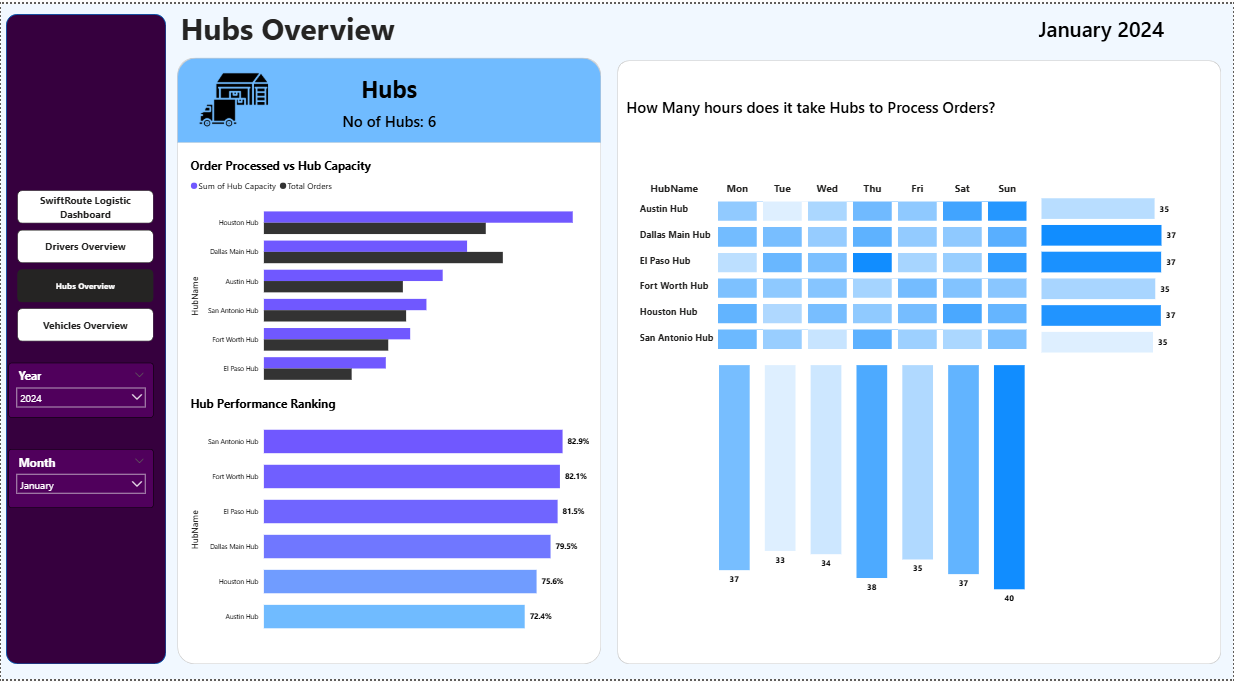

The page's visual inventory and layout, read from the dashboard file:
{"tool":"powerbi","page":{"name":"Hubs Overview","canvas":[1970,1080],"ordinal":2},"visuals":[{"type":"shape","box":[8,16,256,1040],"z":0},{"type":"textbox","box":[282,0,812,90],"z":1000},{"type":"slicer","fields":{"Values":["Date Table.Month"]},"box":[12,712,232,94],"z":2000},{"type":"slicer","fields":{"Values":["Date Table.Year"]},"box":[12,574,232,88],"z":3000},{"type":"shape","box":[282,86,678,970],"z":4000},{"type":"cardVisual","fields":{"Data":["Orders.Year Month Title"]},"box":[1549.1,0,421.7,74.2],"z":5000},{"type":"shape","box":[986,90,966,966],"z":6000},{"type":"shape","box":[282,86,678,136],"z":7000},{"type":"textbox","box":[482,104,278,72],"z":8000},{"type":"cardVisual","fields":{"Data":["Hubs.No of hubs"]},"box":[410,156,422,58],"z":9000},{"type":"clusteredBarChart","title":"Order Processed vs Hub Capacity","fields":{"Category":["Hubs.HubName"],"Y":["Sum(Hubs.Hub Capacity)","Orders.Total Orders"]},"box":[298,246,648,380],"z":10000},{"type":"barChart","title":"Hub Performance Ranking","fields":{"Category":["Hubs.HubName"],"Y":["Orders.On Time Delivery Rate"]},"box":[298,626,648,402],"z":11000},{"type":"pivotTable","fields":{"Rows":["Hubs.HubName"],"Columns":["Date Table.Day"],"Values":["Orders.Avg Delivery Time (Hrs)"]},"box":[1011.6,276.9,647.9,287.7],"z":12000},{"type":"columnChart","fields":{"Category":["Date Table.Day"],"Y":["Orders.Avg Delivery Time (Hrs)"]},"box":[1143.7,564.6,501.3,405.4],"z":13000},{"type":"barChart","fields":{"Category":["Hubs.HubName"],"Y":["Orders.Avg Delivery Time (Hrs)"]},"box":[1659.5,298.6,293.2,266],"z":14000},{"type":"cardVisual","fields":{"Data":["Hubs.Hub Title"]},"box":[960.9,128.5,671.4,72.4],"z":15000},{"type":"pageNavigator","box":[26,298,218,242],"z":16000},{"type":"image","box":[290,92,164,122],"z":17000}]}

Visuals, with their boxes on the page's 1970x1080 design canvas (x1, y1, x2, y2). These are canvas units, not pixel positions in the 1234x682 screenshot, which may show the page scaled, cropped or inside an application window:
shape: [8, 16, 264, 1056]
textbox: [282, 0, 1094, 90]
slicer - Date Table.Month: [12, 712, 244, 806]
slicer - Date Table.Year: [12, 574, 244, 662]
shape: [282, 86, 960, 1056]
cardVisual - Orders.Year Month Title: [1549, 0, 1971, 74]
shape: [986, 90, 1952, 1056]
shape: [282, 86, 960, 222]
textbox: [482, 104, 760, 176]
cardVisual - Hubs.No of hubs: [410, 156, 832, 214]
"Order Processed vs Hub Capacity" clusteredBarChart: [298, 246, 946, 626]
"Hub Performance Ranking" barChart: [298, 626, 946, 1028]
pivotTable - Hubs.HubName x Date Table.Day: [1012, 277, 1660, 565]
columnChart - Date Table.Day x Orders.Avg Delivery Time (Hrs): [1144, 565, 1645, 970]
barChart - Hubs.HubName x Orders.Avg Delivery Time (Hrs): [1660, 299, 1953, 565]
cardVisual - Hubs.Hub Title: [961, 128, 1632, 201]
pageNavigator: [26, 298, 244, 540]
image: [290, 92, 454, 214]
